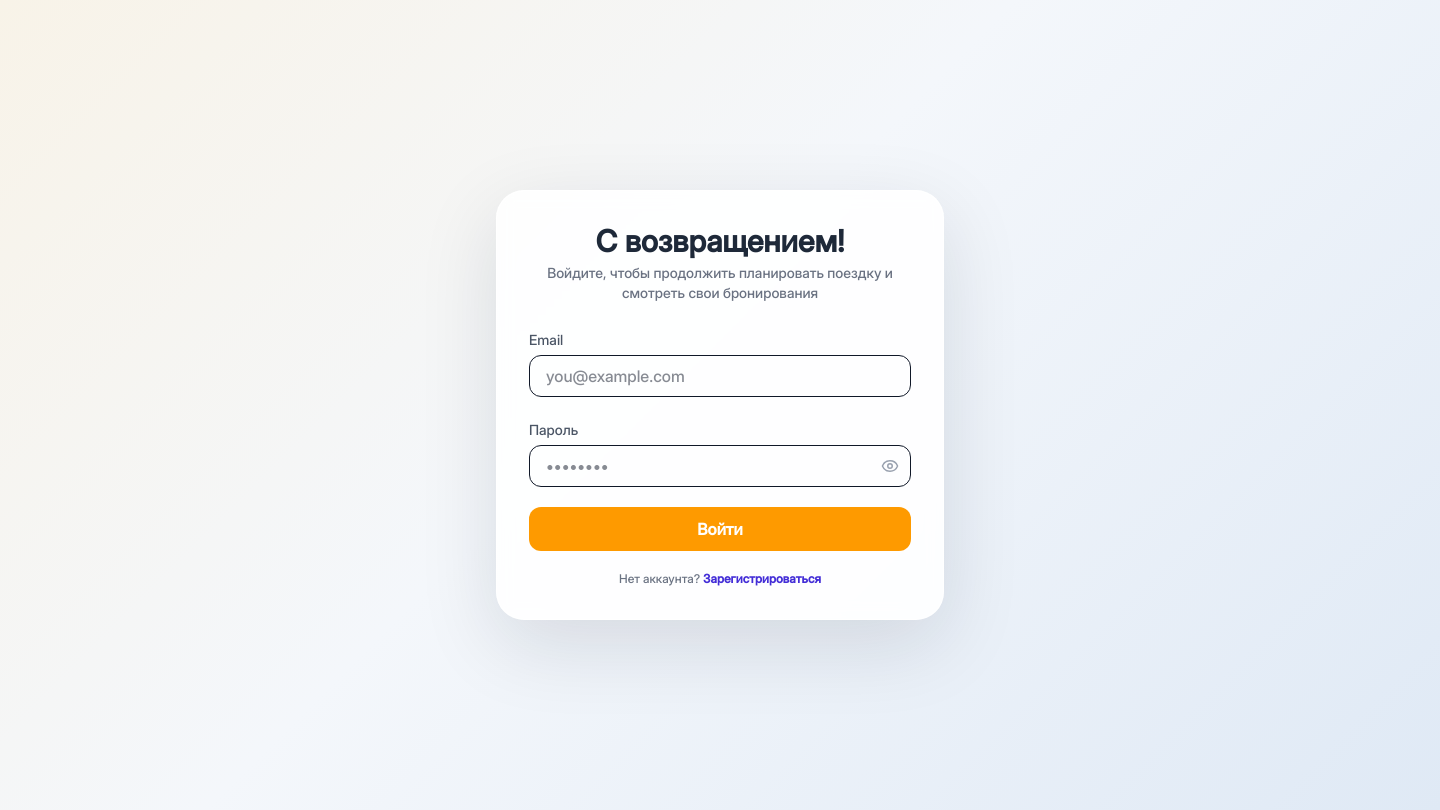
Test case: UI-06 — Ошибка при входе с неверными данными › показывает красный блок с сообщением об ошибке
Type "wrong@test.com" into the field with placeholder "you@example.com" at (720, 376), box [529,355,911,397]
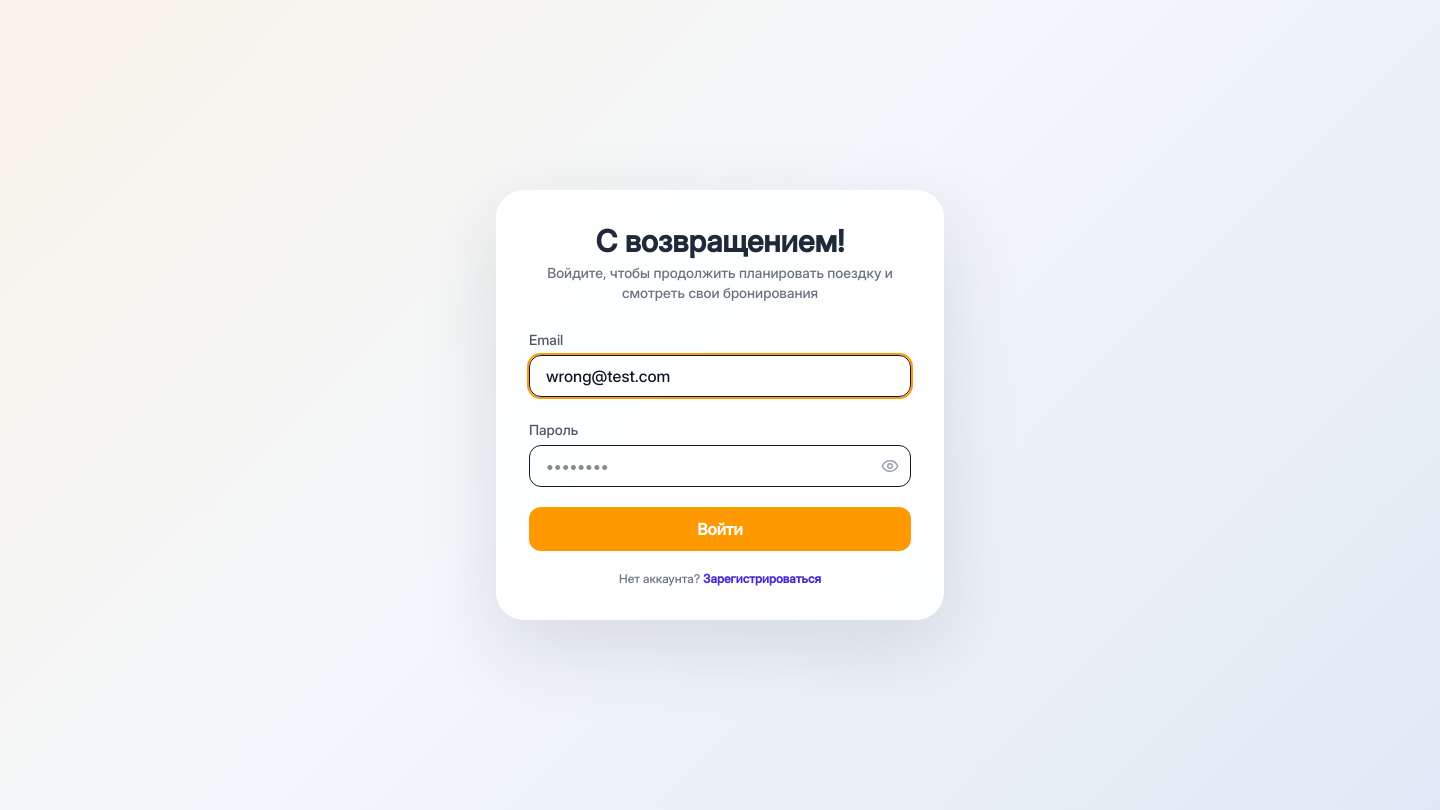
Type "badpassword" into the password field with placeholder "••••••••" at (720, 466), box [529,445,911,487]
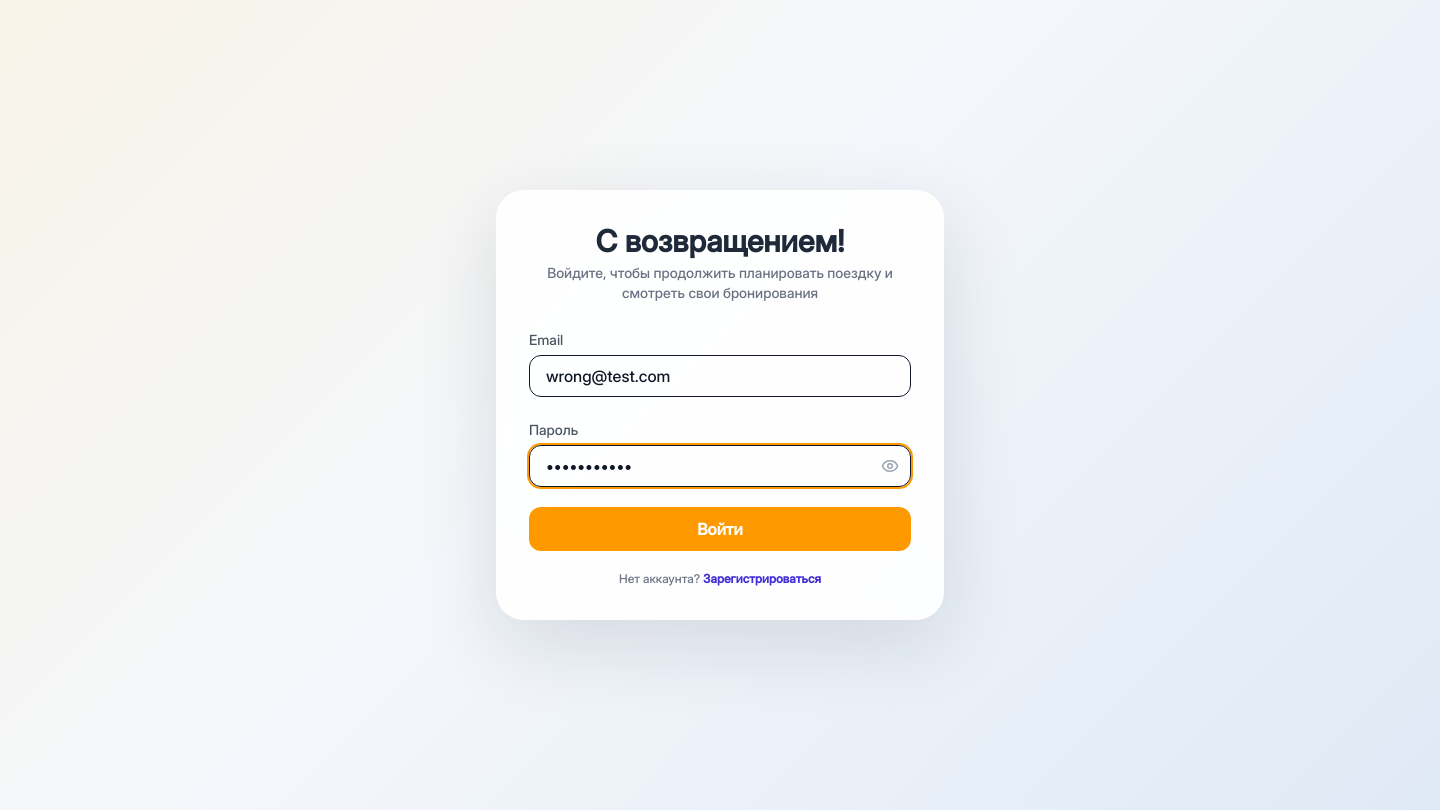
Click the button "Войти" at (720, 529), box [529,507,911,551]
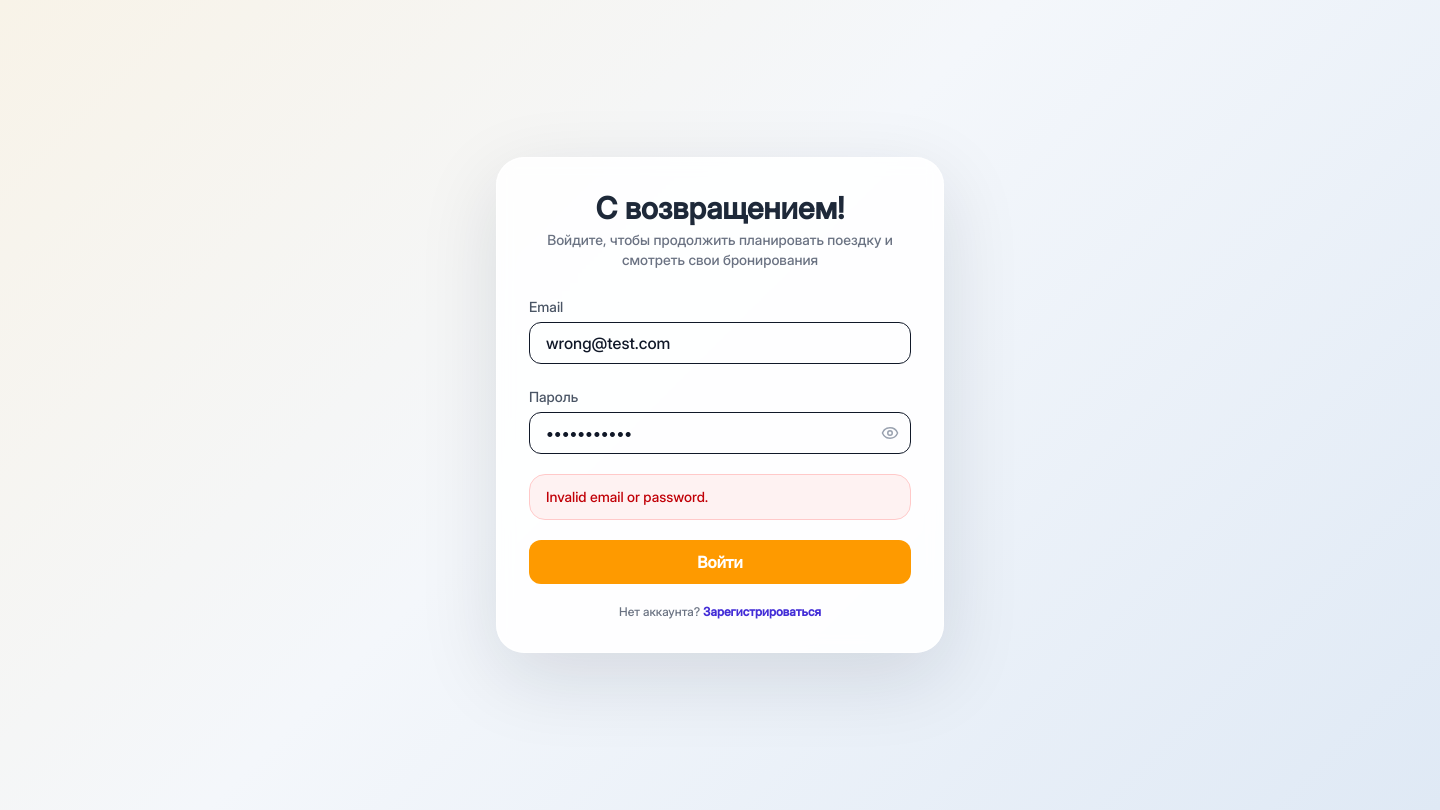
Expected: the text "Invalid email or password." is shown, [529,474,911,520]
